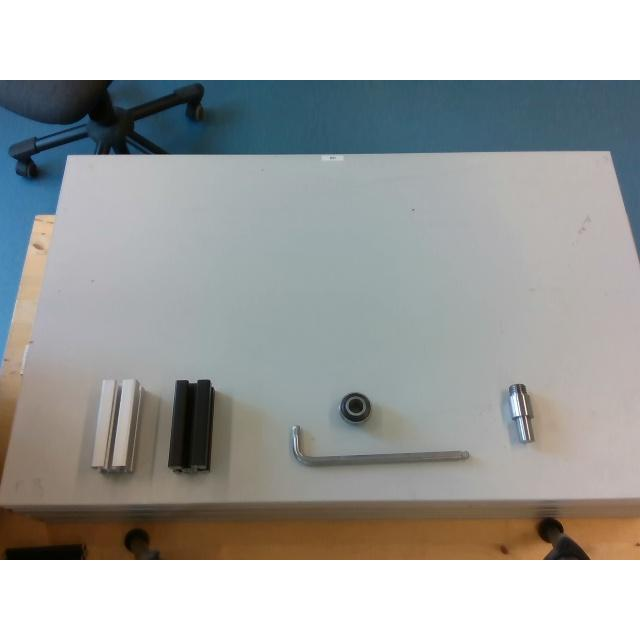AllenKey: (290, 425, 470, 465)
Axis2: (507, 384, 533, 442)
Bearing2: (340, 393, 370, 422)
S40_40_B: (168, 378, 214, 469)
S40_40_G: (91, 379, 139, 471)
